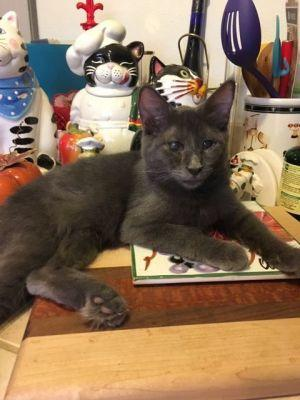rblue: (131, 78, 242, 197)
